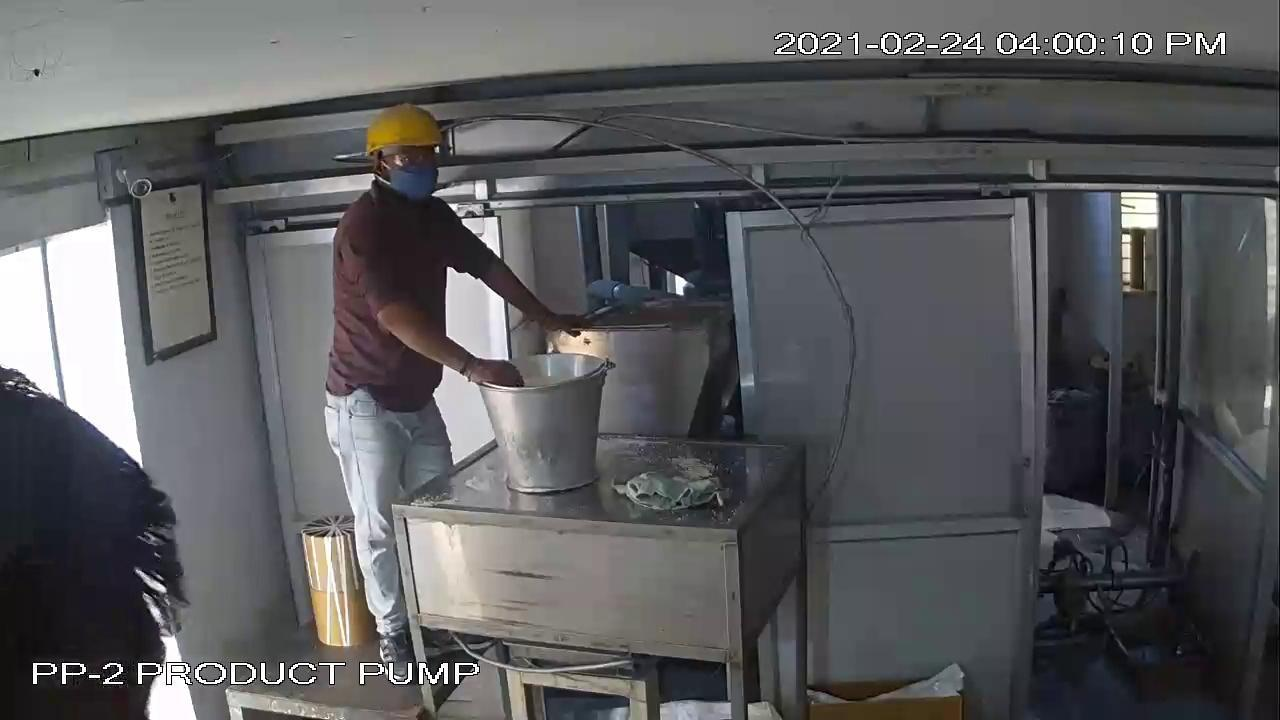helmet: (356, 101, 461, 165)
